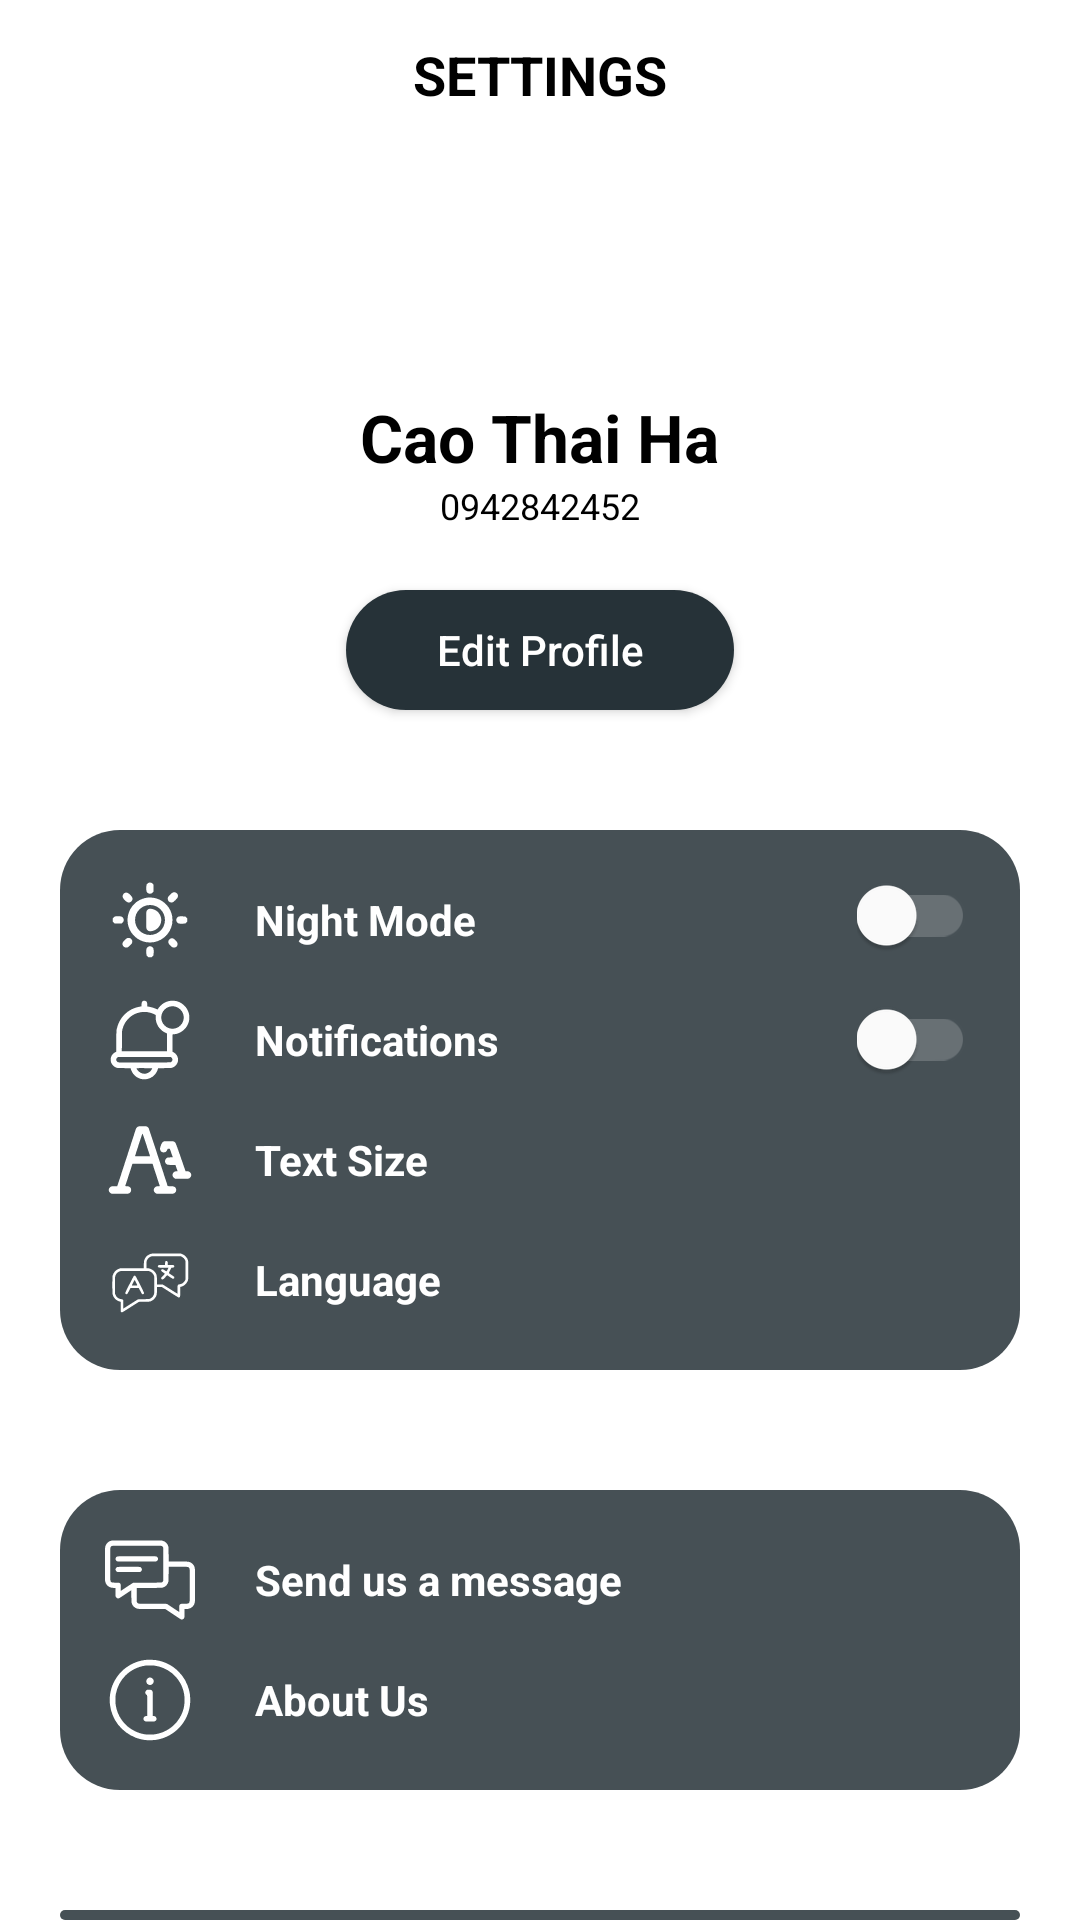

Screen size 1080 × 1920. Icon name, then its box in pixels as [x1,y1,x2,y2]:
chat: [105,1540,195,1620]
information: [109,1659,191,1741]
